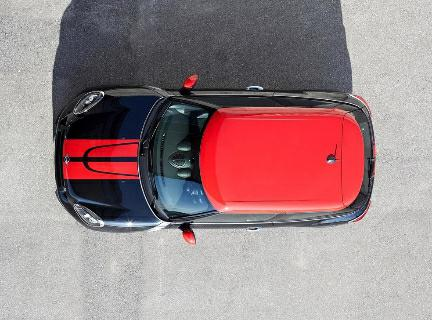MINI-JCWPACEMAN: (52, 74, 382, 250)
